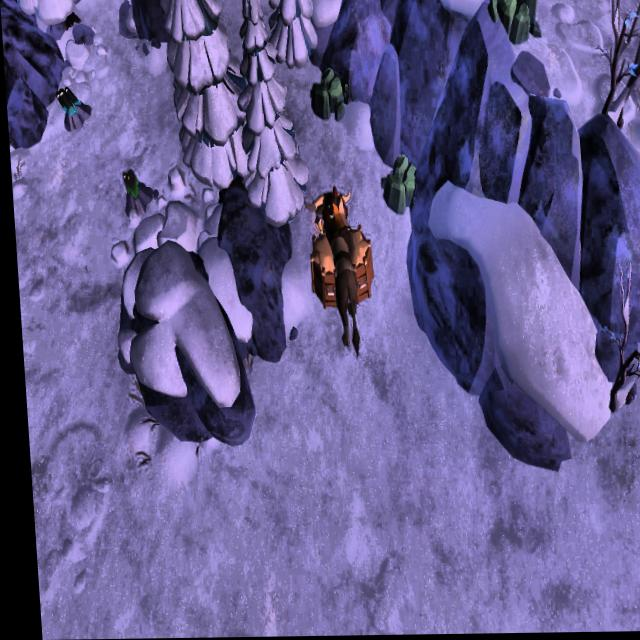ore_t3: (119, 164, 137, 200)
ore_t4: (54, 82, 78, 118)
rock_t3: (477, 0, 544, 47), (374, 150, 418, 218), (305, 58, 348, 125)
